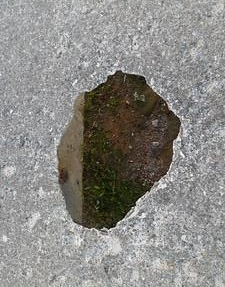Spalling: (55, 69, 181, 231)
